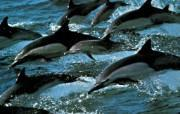fish: (7, 18, 115, 69), (87, 39, 179, 94), (106, 1, 180, 34)
